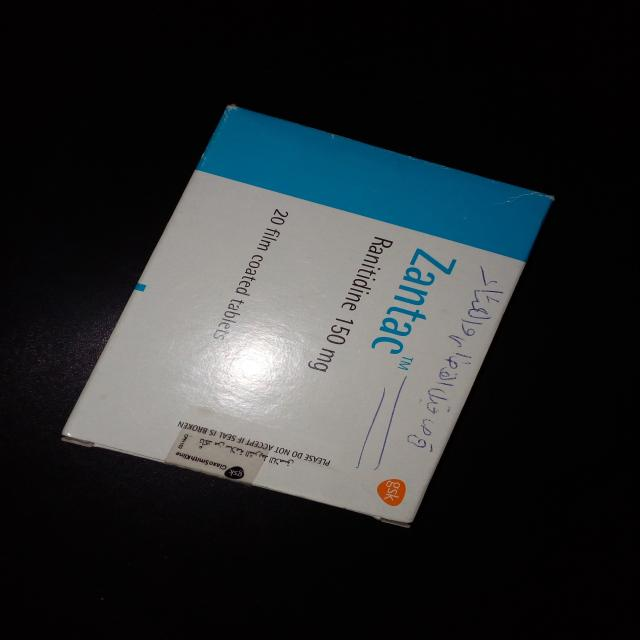Medicine: (59, 102, 563, 524)
